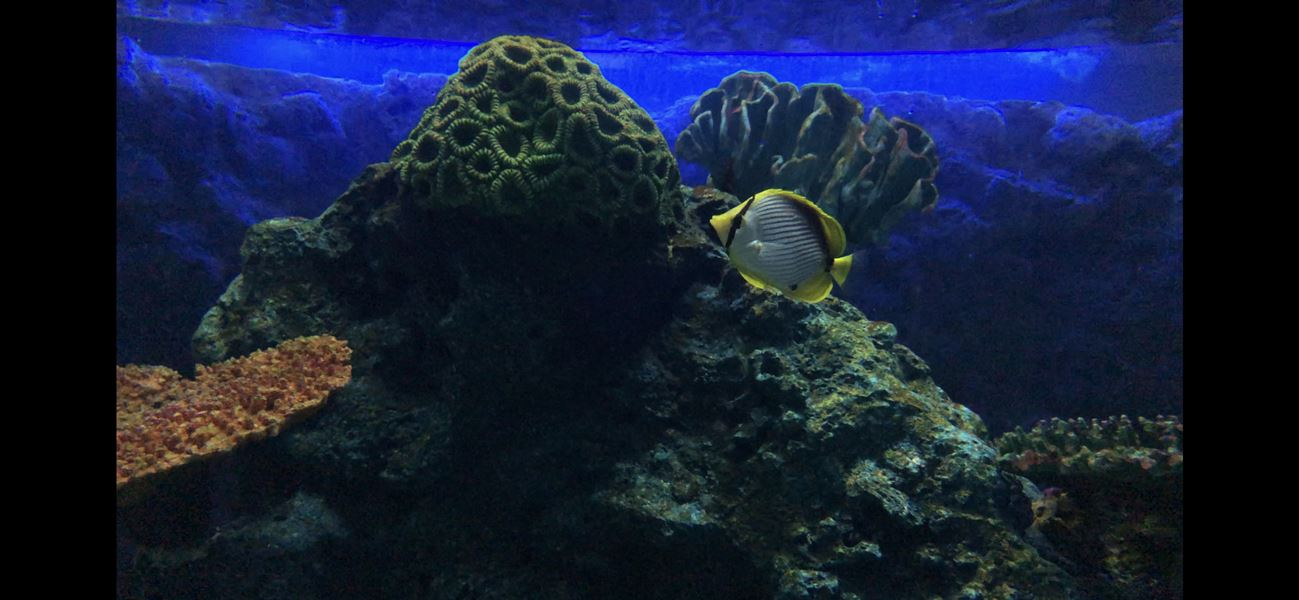Black-backed butterflyfish: (700, 182, 882, 317)
